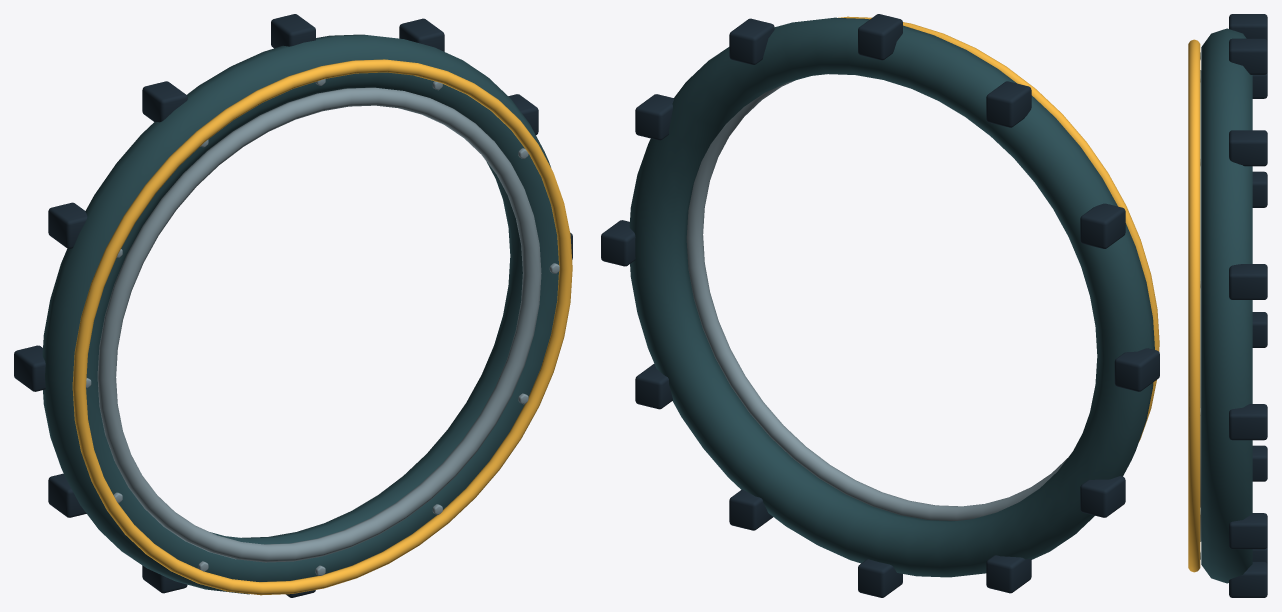
File: turbine_shroud.glb
3 renders of one model, left to right at view 1: azimuth 30°, elevation 25°; view 2: azimuth 150°, elevation 25°; view 3: azimuth 270°, elevation 25°, orthographic. The views are drawn at different scales.
Parts seen in each view (by area): view 1: Turbine shroud, Front guard ring, Warning rim, Housing mounting; view 2: Turbine shroud, Housing mounting, Front guard ring, Warning rim; view 3: Turbine shroud, Housing mounting, Warning rim, Front guard ring.
Boxes of the visible parts, x1=… form: Turbine shroud: x1=42, y1=34, x2=558, y2=594; Front guard ring: x1=86, y1=79, x2=559, y2=575; Warning rim: x1=72, y1=59, x2=572, y2=595; Housing mounting: x1=14, y1=14, x2=572, y2=597; Turbine shroud: x1=629, y1=17, x2=1154, y2=577; Housing mounting: x1=601, y1=14, x2=1159, y2=597; Front guard ring: x1=686, y1=80, x2=1067, y2=520; Warning rim: x1=838, y1=16, x2=1159, y2=441; Turbine shroud: x1=1201, y1=28, x2=1252, y2=583; Housing mounting: x1=1229, y1=14, x2=1267, y2=597; Warning rim: x1=1188, y1=39, x2=1200, y2=572; Front guard ring: x1=1200, y1=52, x2=1201, y2=559.
Size of the model in its own units: 6 by 6 by 0.8218.
